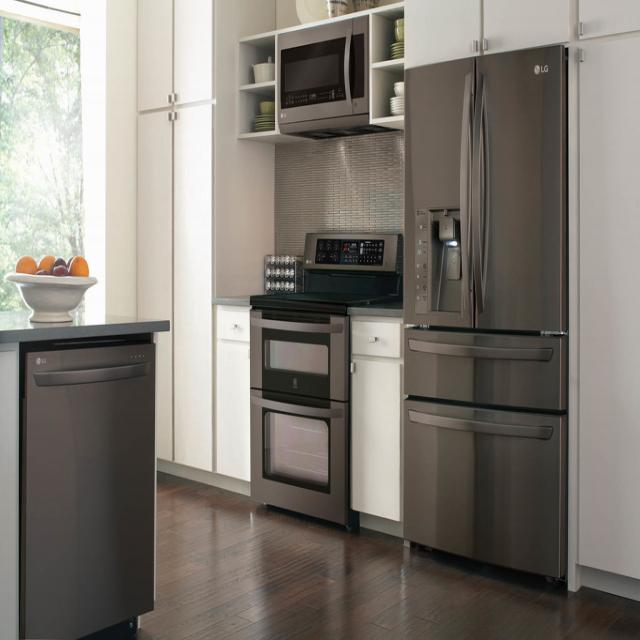Dish: (14, 235, 105, 321)
Handle: (244, 52, 280, 81), (385, 76, 409, 96), (246, 115, 272, 133), (248, 108, 275, 123), (388, 94, 408, 114), (392, 83, 414, 101), (391, 18, 408, 37), (389, 43, 407, 60), (256, 100, 274, 116)
oven: (256, 306, 344, 520), (274, 34, 378, 152)
refrigerator: (404, 70, 558, 576)
table: (4, 311, 187, 640)
